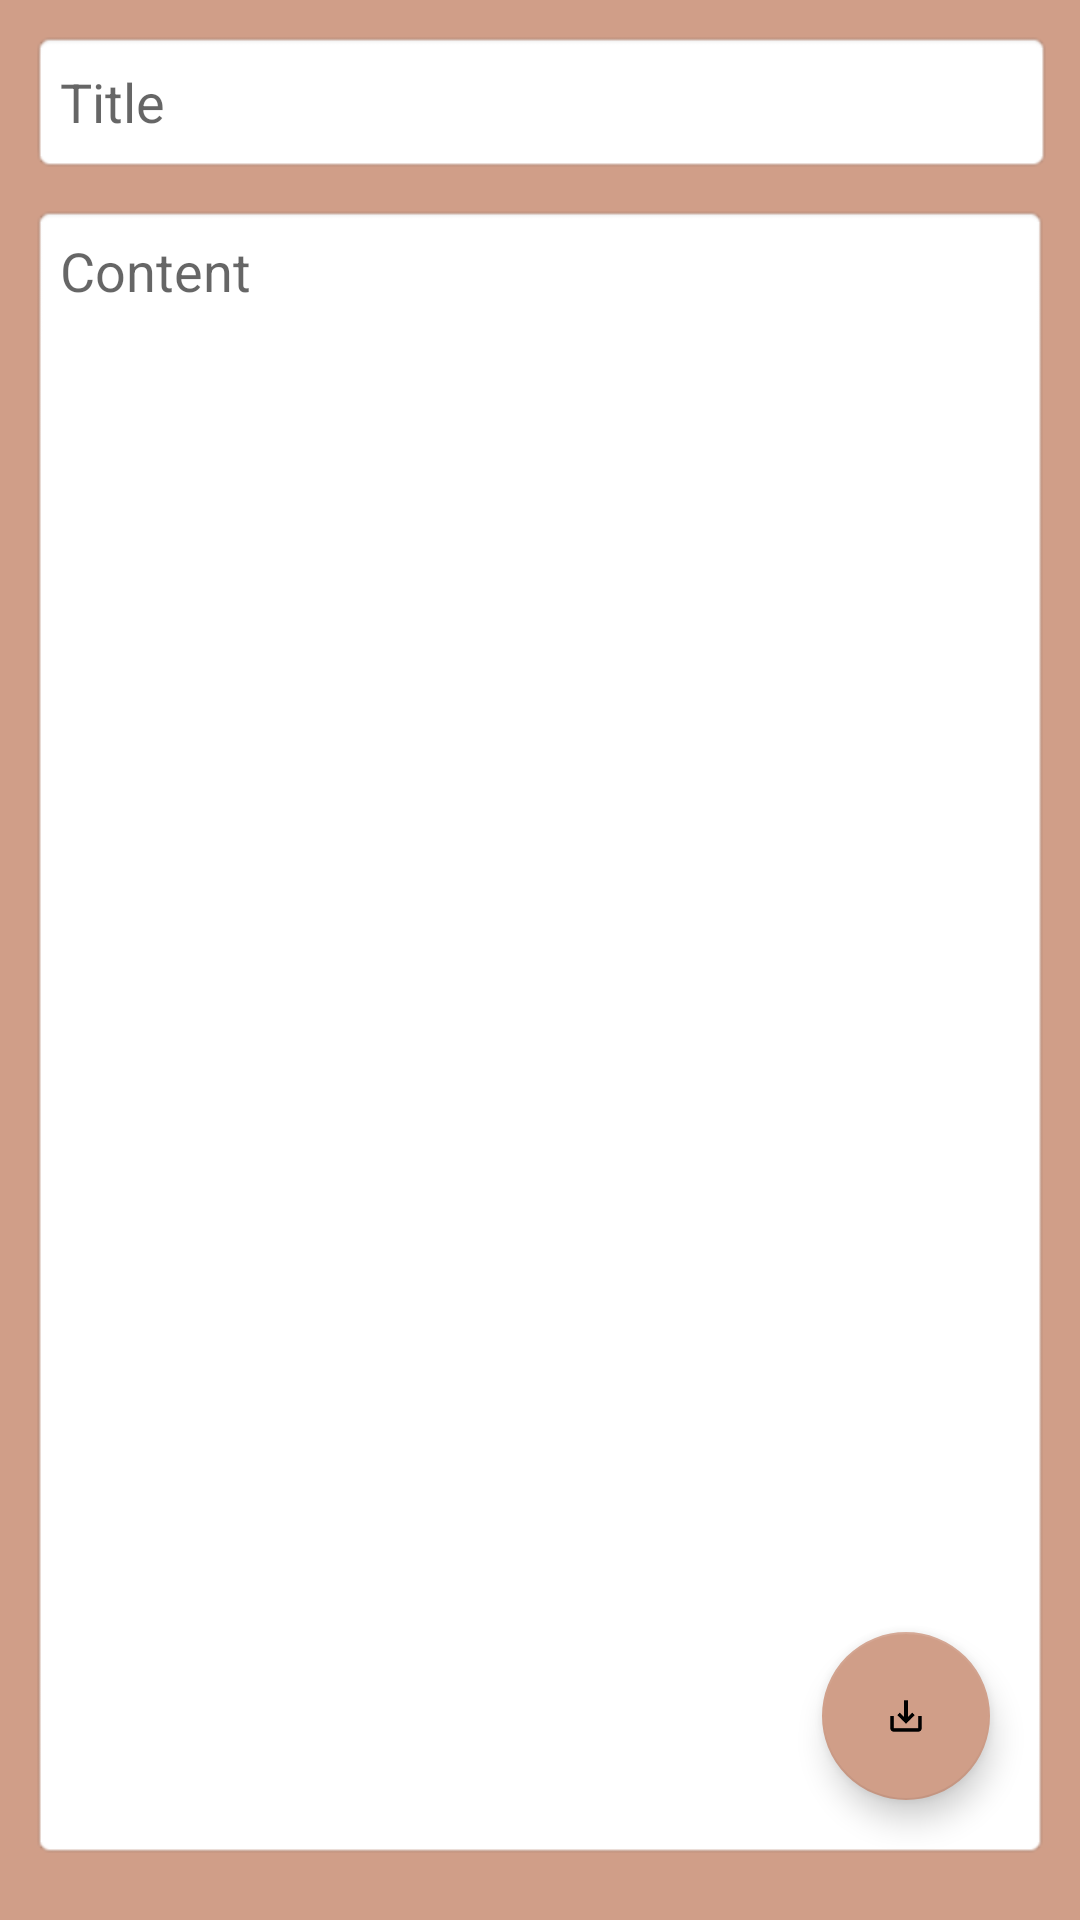

Screen size 1080w x 1920h. Icon name, then its box in pixels as (x1, y1, x2, y2):
save: (822, 1632, 990, 1800)
